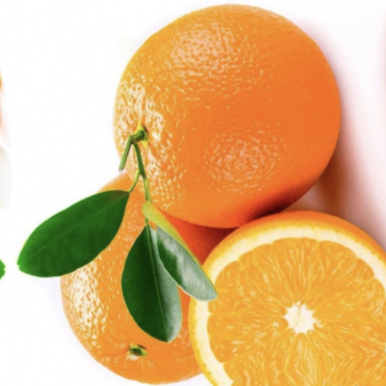orange: (67, 0, 375, 268), (30, 126, 289, 386)
